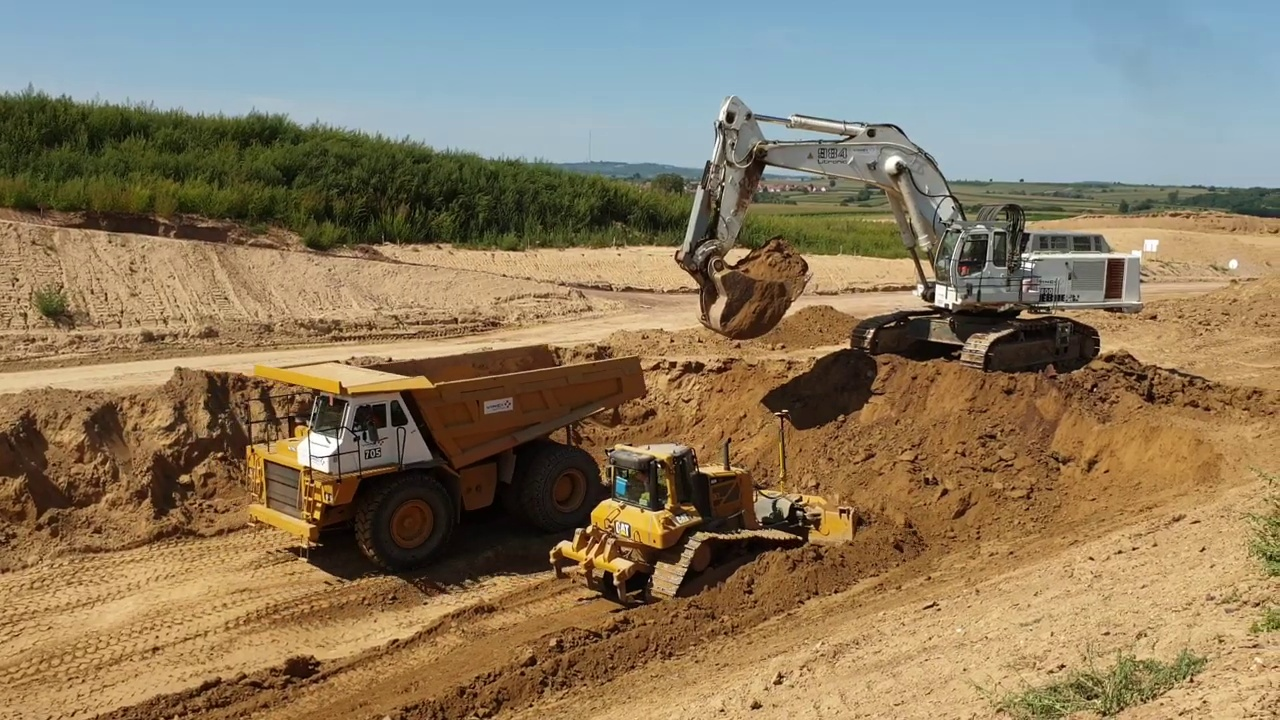bulldozer: (549, 406, 860, 606)
excavator: (670, 92, 1152, 381)
truck: (235, 338, 652, 576)
